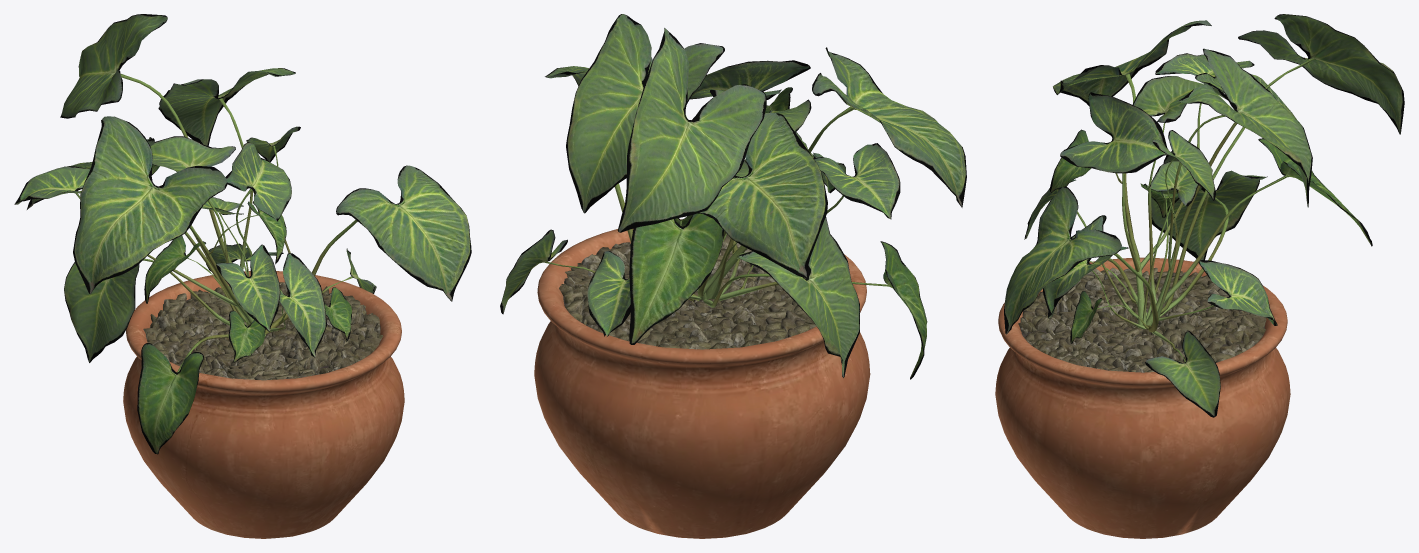
The model's file is potted_plant_02.glb.
3 renders of one model, left to right at view 1: azimuth 30°, elevation 25°; view 2: azimuth 150°, elevation 25°; view 3: azimuth 270°, elevation 25°, orthographic. The views are drawn at different scales.
Visible parts, largest first — view 1: potted_plant_02_leaves, potted_plant_02_pot; view 2: potted_plant_02_leaves, potted_plant_02_pot; view 3: potted_plant_02_pot, potted_plant_02_leaves.
Boxes of the visible parts, x1,y1,x2,y2 form: potted_plant_02_leaves: (14,14,471,454); potted_plant_02_pot: (123,271,404,538); potted_plant_02_leaves: (500,14,966,379); potted_plant_02_pot: (534,219,870,538); potted_plant_02_pot: (995,257,1290,538); potted_plant_02_leaves: (1004,14,1404,417).
Size of the model in its own units: 0.7012 by 0.8412 by 0.6574.
Materials: 2 (2 with a texture image).
